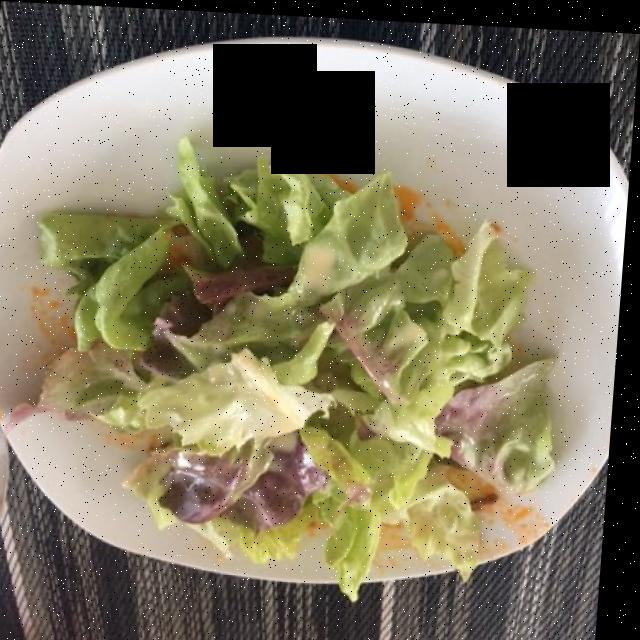salad-leaf-salad-green: (49, 147, 559, 568)
